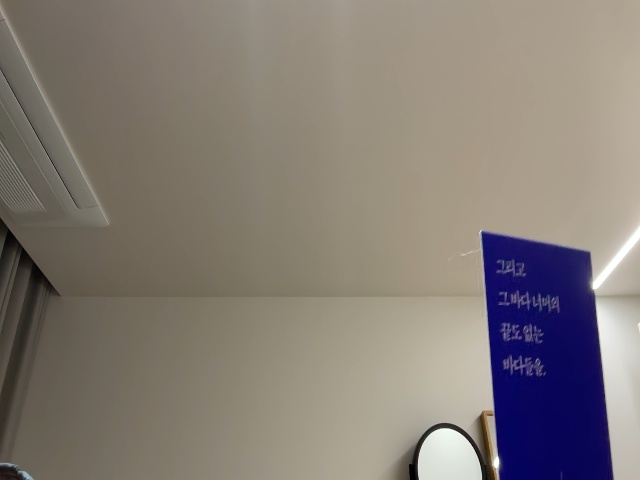card: (481, 233, 616, 480)
